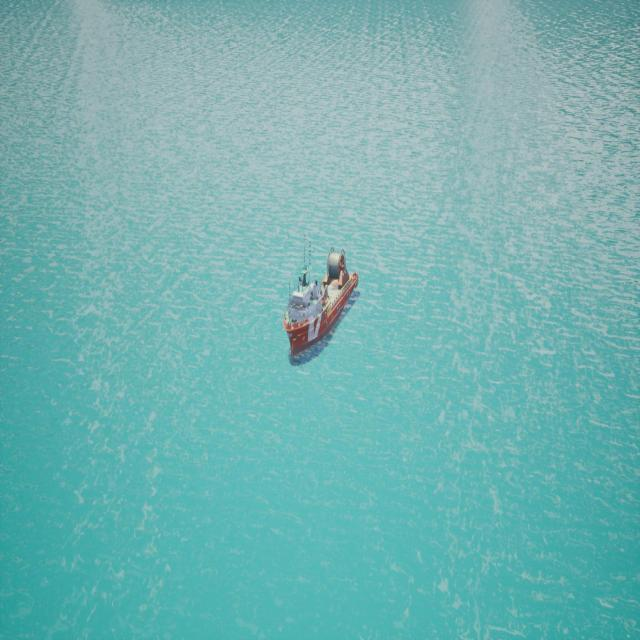tug boat: (282, 258, 362, 367)
